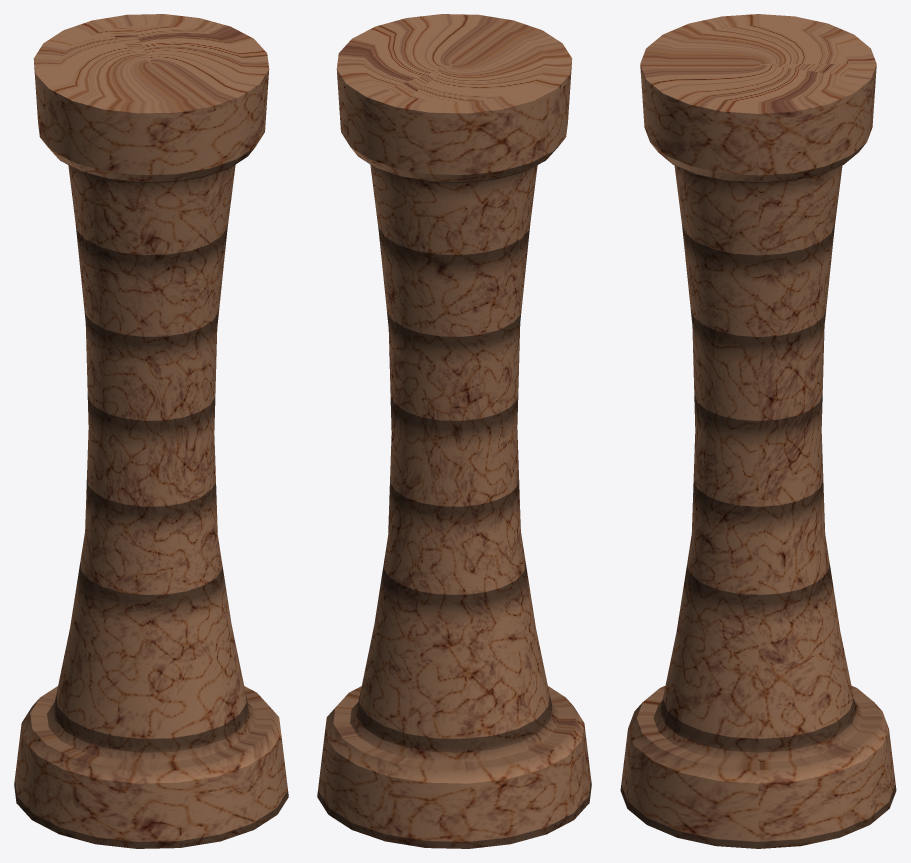
The model's file is Round_Pillar.fbx.
The picture shows the model from 3 angles, left to right: view 1: azimuth 30°, elevation 25°; view 2: azimuth 150°, elevation 25°; view 3: azimuth 270°, elevation 25°; orthographic projection.
Parts seen in each view (by area): view 1: Pillar; view 2: Pillar; view 3: Pillar.
Boxes of the visible parts, bbox=[...] form: Pillar: bbox=[14, 14, 288, 848]; Pillar: bbox=[317, 14, 591, 848]; Pillar: bbox=[620, 14, 896, 848].
Size of the model in its own units: 210 by 609 by 210.
1 material, 1 textured.
